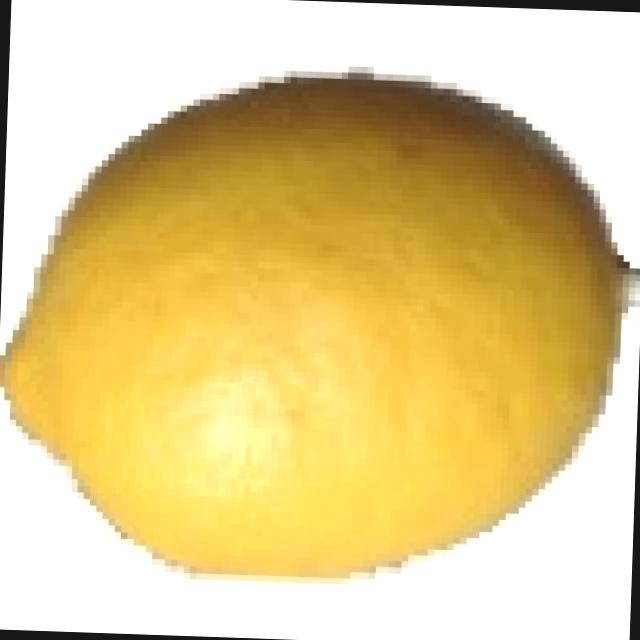lemon: (0, 43, 640, 612)
